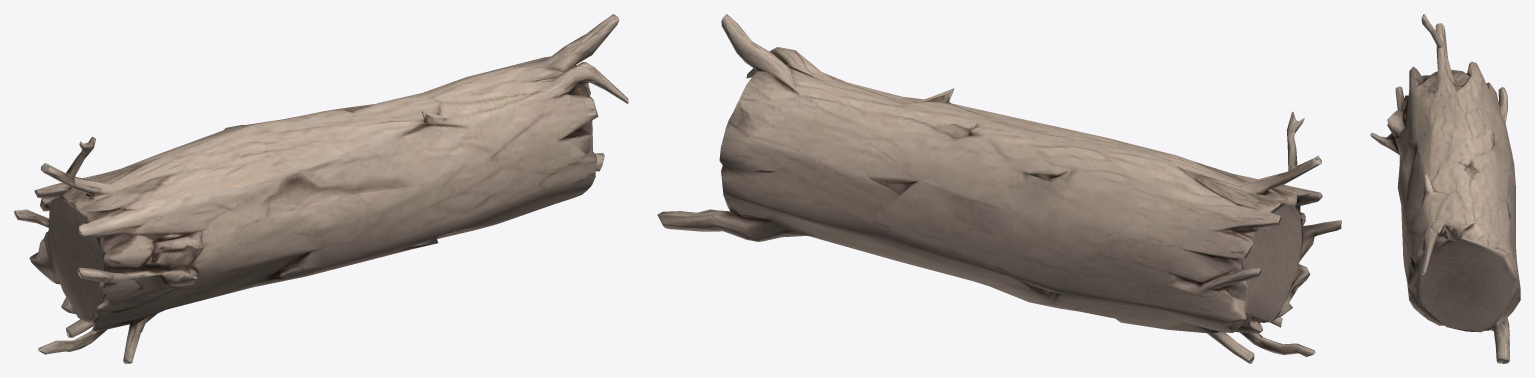
File: driftwood.lod.glb
3 views of the same model, side by side, from view 1: azimuth 30°, elevation 25°; view 2: azimuth 150°, elevation 25°; view 3: azimuth 270°, elevation 25° (orthographic). The views are drawn at different scales.
Bounding box in the file's own units: 1.88 × 0.6669 × 0.558.
Materials: 1 (1 with a texture image).
